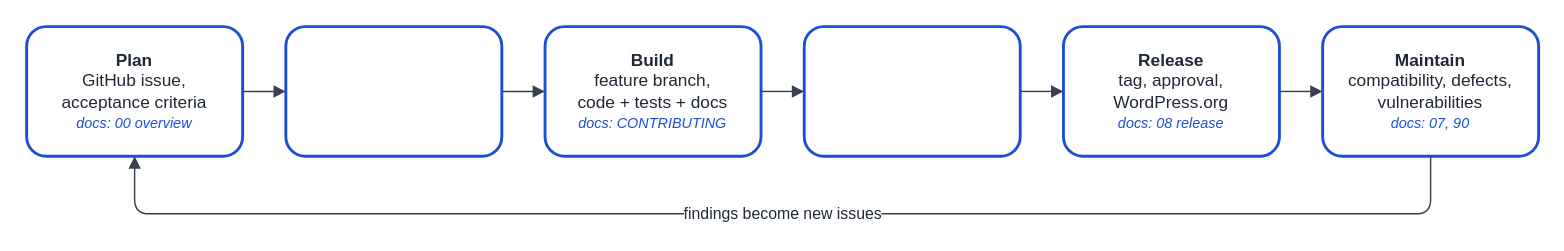
Some shapes in this 1564 by 251 pixel diagram are drawn without their labels. Here are the shapes that lost their labels. From the top down, the centre of each, then its label:
At [393,90]: "Design permissions, risk, approach docs: 90 security".
At [911,90]: "Test PR checks, nightly checks docs: 01 to 07".
